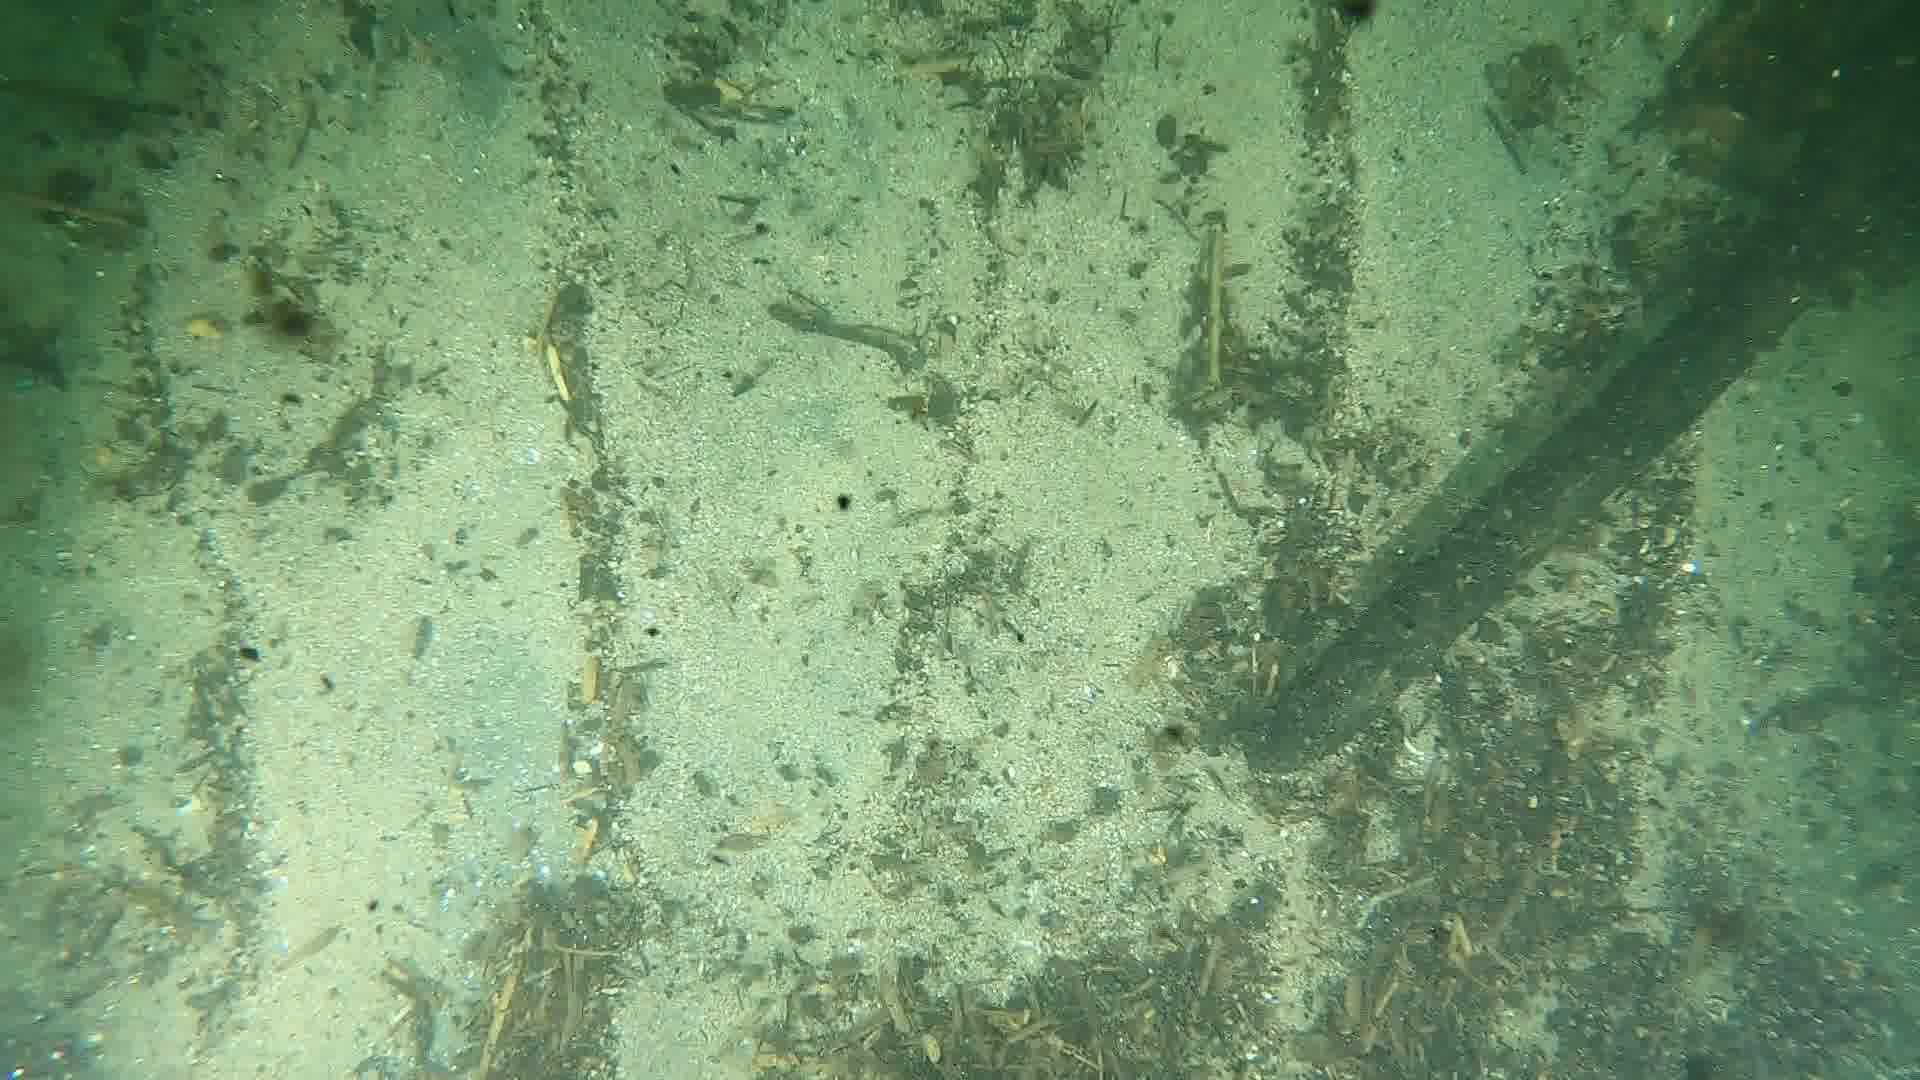wood: (1244, 0, 1920, 771)
